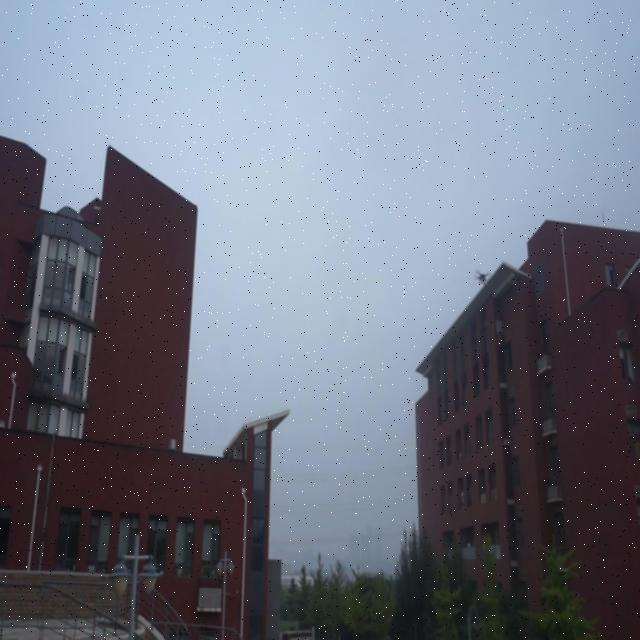UAV: (474, 270, 491, 286)
